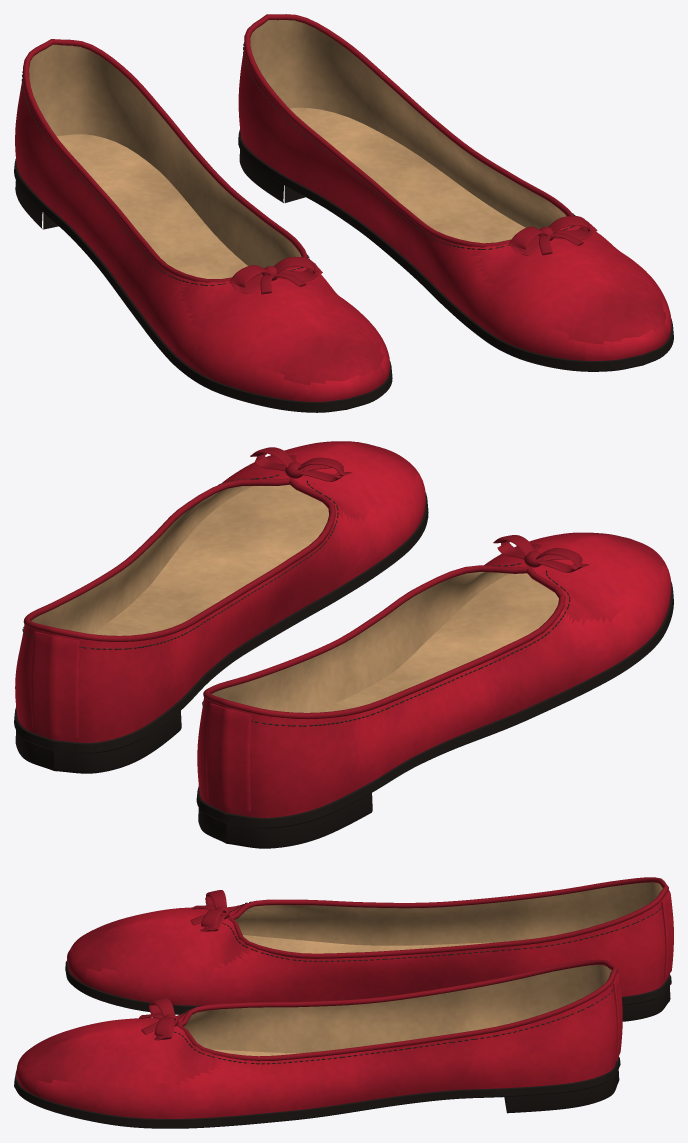
The model's file is ballet-flat.glb.
3 renders of one model, top to bottom at view 1: azimuth 30°, elevation 25°; view 2: azimuth 150°, elevation 25°; view 3: azimuth 270°, elevation 25°, orthographic. The views are drawn at different scales.
Parts seen in each view (by area): view 1: Left_Shoe, Right_Shoe; view 2: Right_Shoe, Left_Shoe; view 3: Left_Shoe, Right_Shoe.
Part boxes in pixels (x1,y1,x2,y2): Left_Shoe: (238,14,673,371); Right_Shoe: (14,39,392,412); Right_Shoe: (196,532,673,848); Left_Shoe: (14,441,428,773); Left_Shoe: (14,959,622,1128); Right_Shoe: (65,877,673,1021).
Bounding box in the file's own units: 0.206 × 0.0597 × 0.3092.
6 materials, 3 textured.
